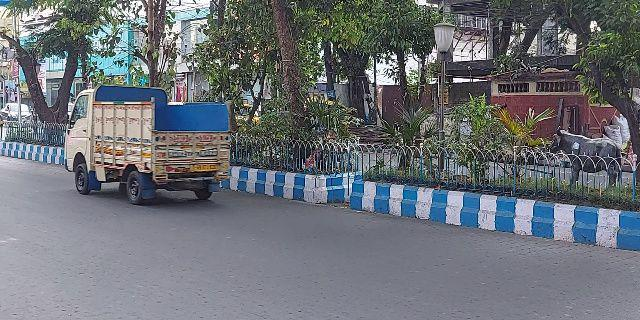Minitruck: (60, 86, 235, 207)
